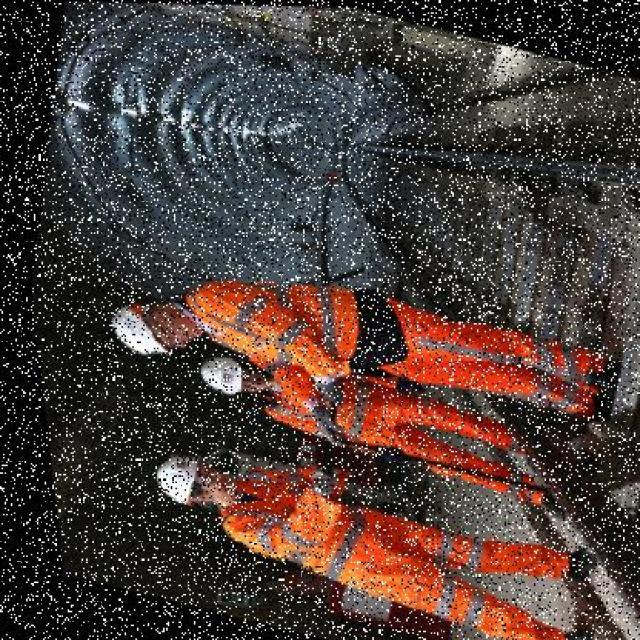helmet: (95, 290, 175, 365), (134, 443, 206, 507), (185, 348, 243, 395)
vest: (195, 466, 427, 600), (185, 255, 385, 381), (251, 359, 415, 457)
